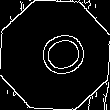O_W: (24, 26, 86, 84)
